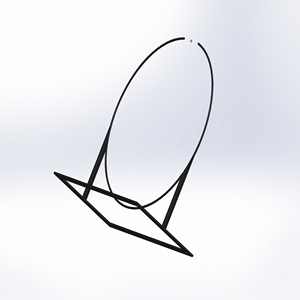circle: (51, 34, 213, 257)
